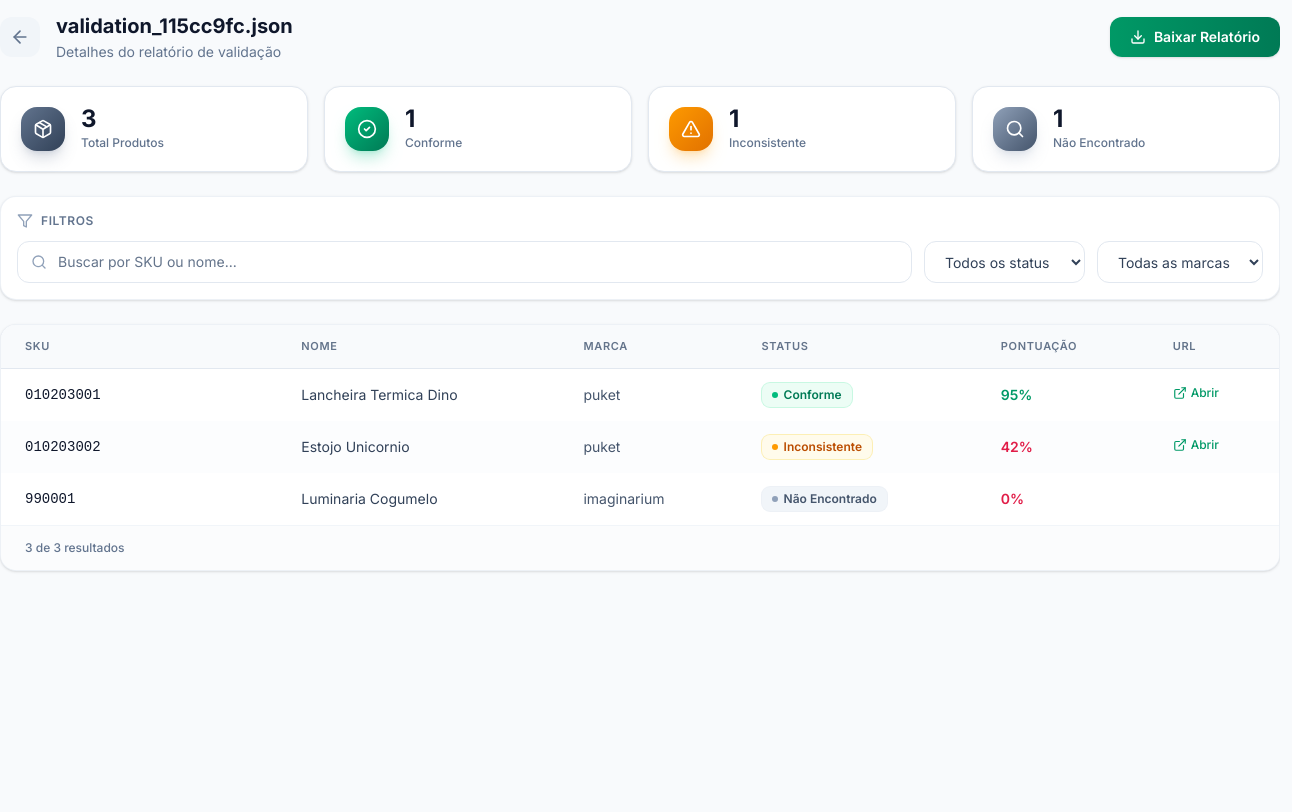
Scenario: filtra por status e marca a partir dos itens de products
expect the text "010203001" is shown: met, box [1,369,277,421]
Select "imaginarium" in the dropdown named "Filtrar marca" at (1180, 262), box [1097,241,1263,283]
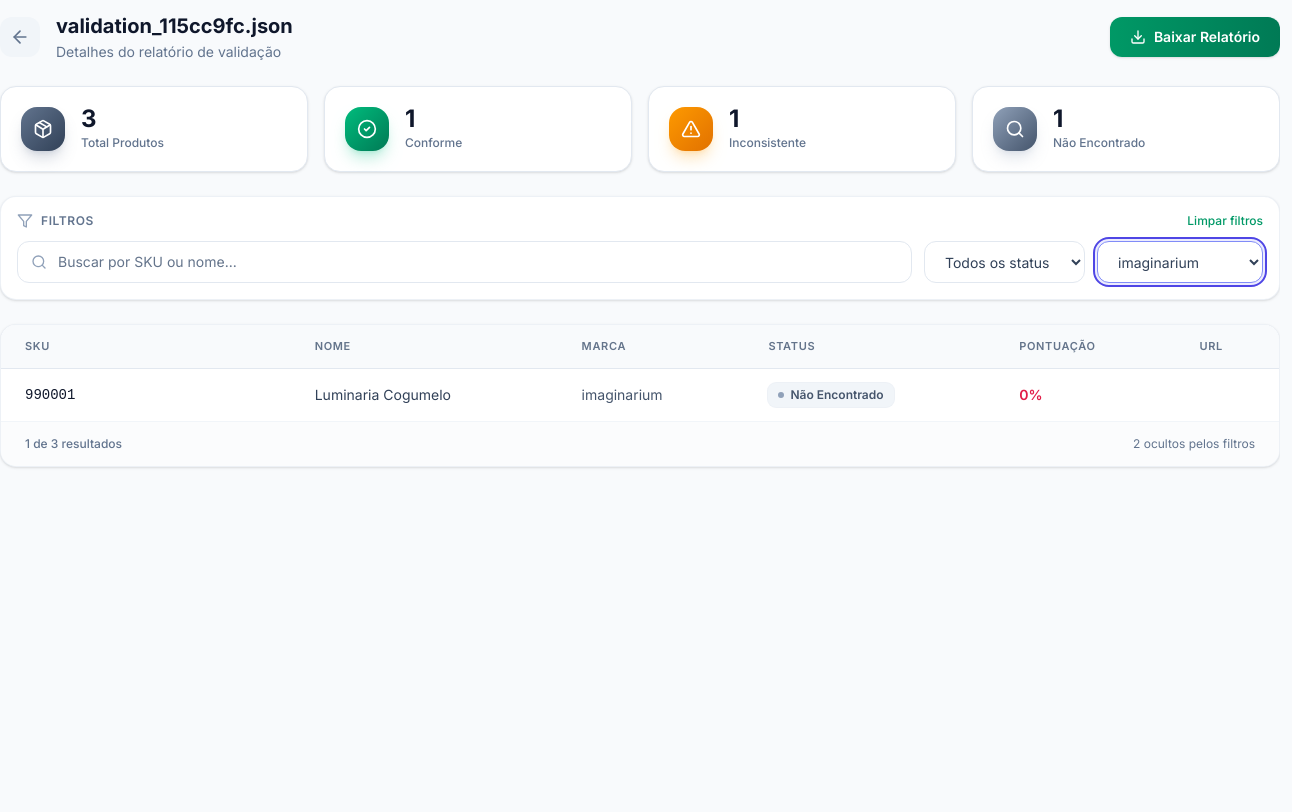
expect the text "1 de 3 resultados" is shown: met, box [25,436,122,452]
expect the text "010203001" is gone: met
Click the button "Limpar filtros".
click(1225, 221)  # box [1187,213,1263,229]
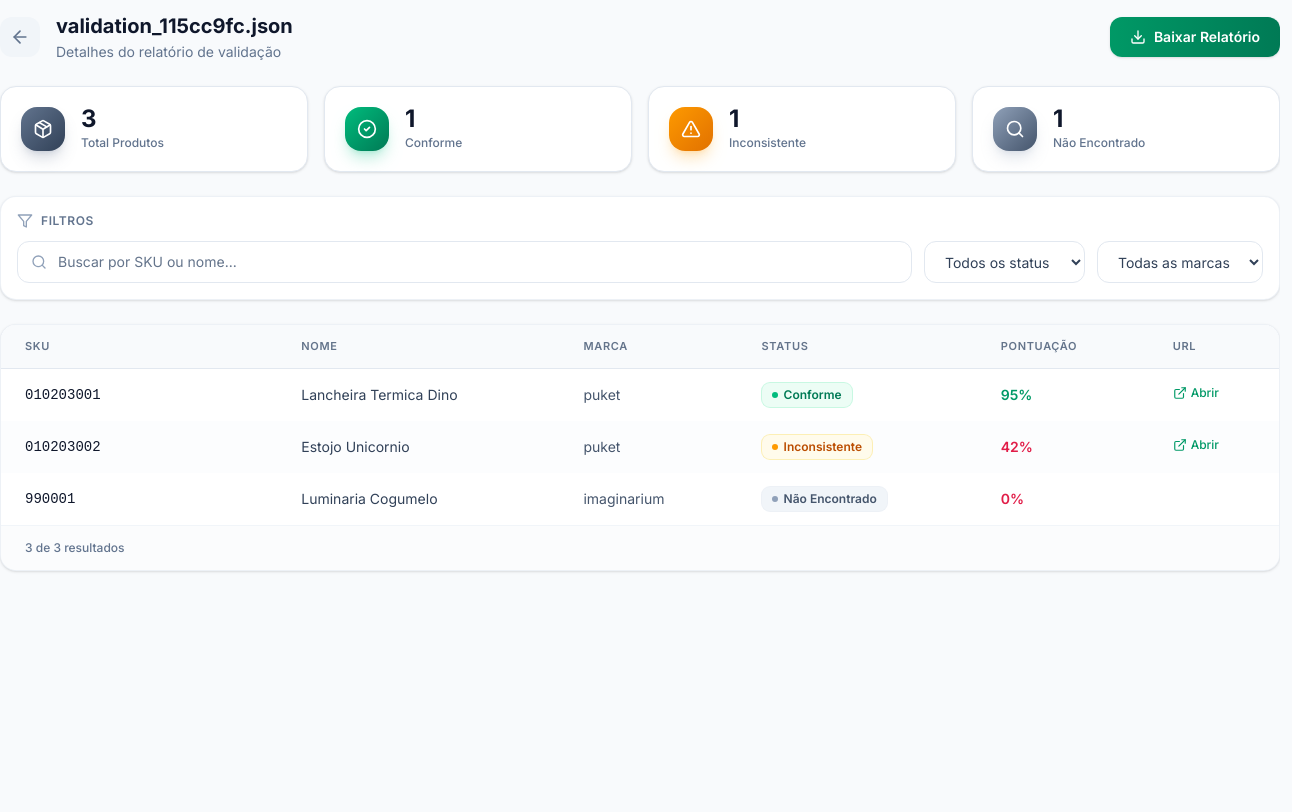
Select "Conforme" in the dropdown named "Filtrar status" at (1004, 262), box [924,241,1085,283]
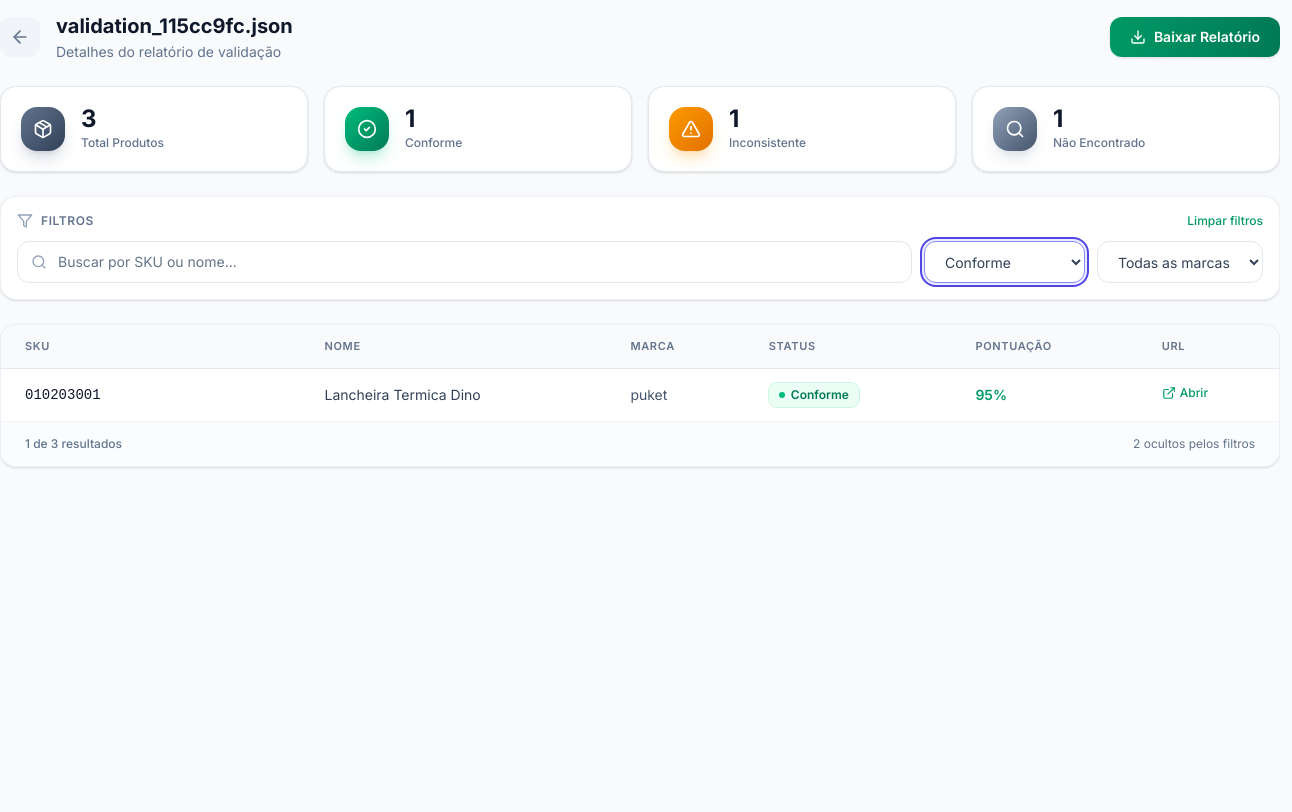
expect the text "010203001" is shown: met, box [1,369,300,421]
expect the text "1 de 3 resultados" is shown: met, box [25,436,122,452]
